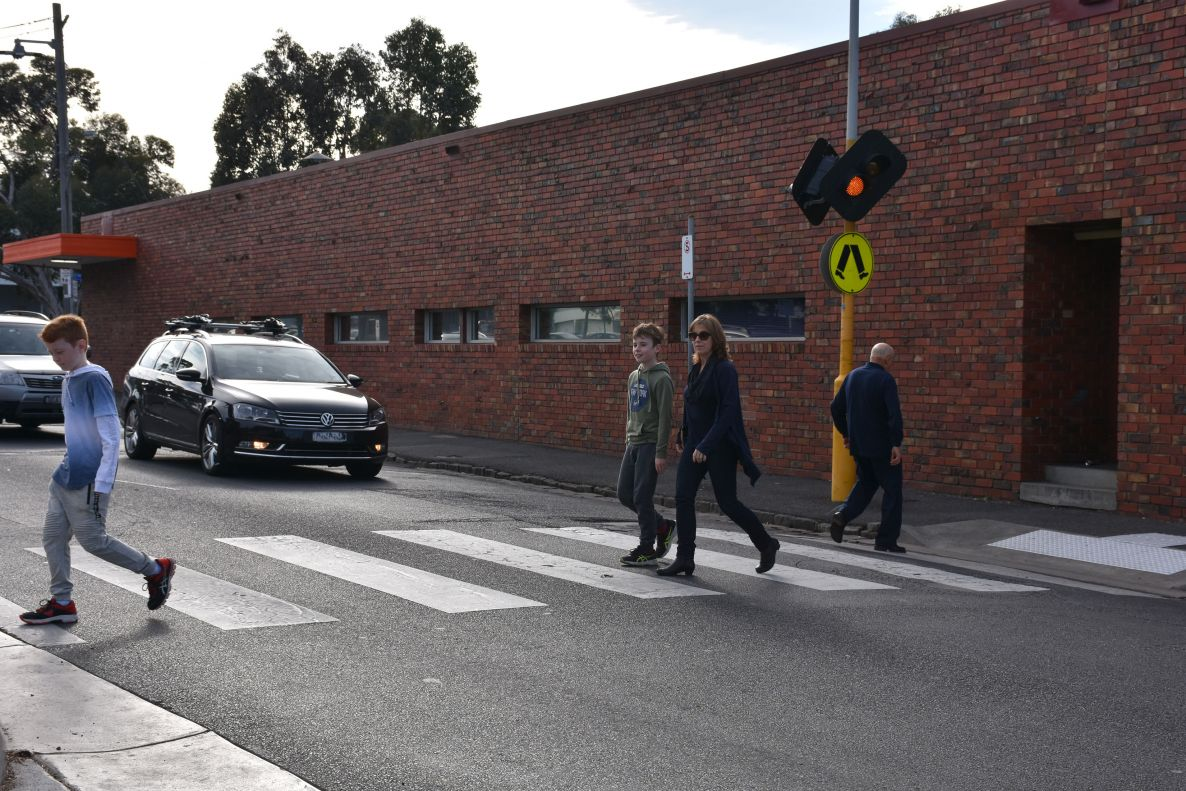Car: (124, 313, 391, 479)
Human: (19, 313, 181, 641), (650, 313, 781, 583), (575, 316, 672, 568), (841, 333, 931, 566)
